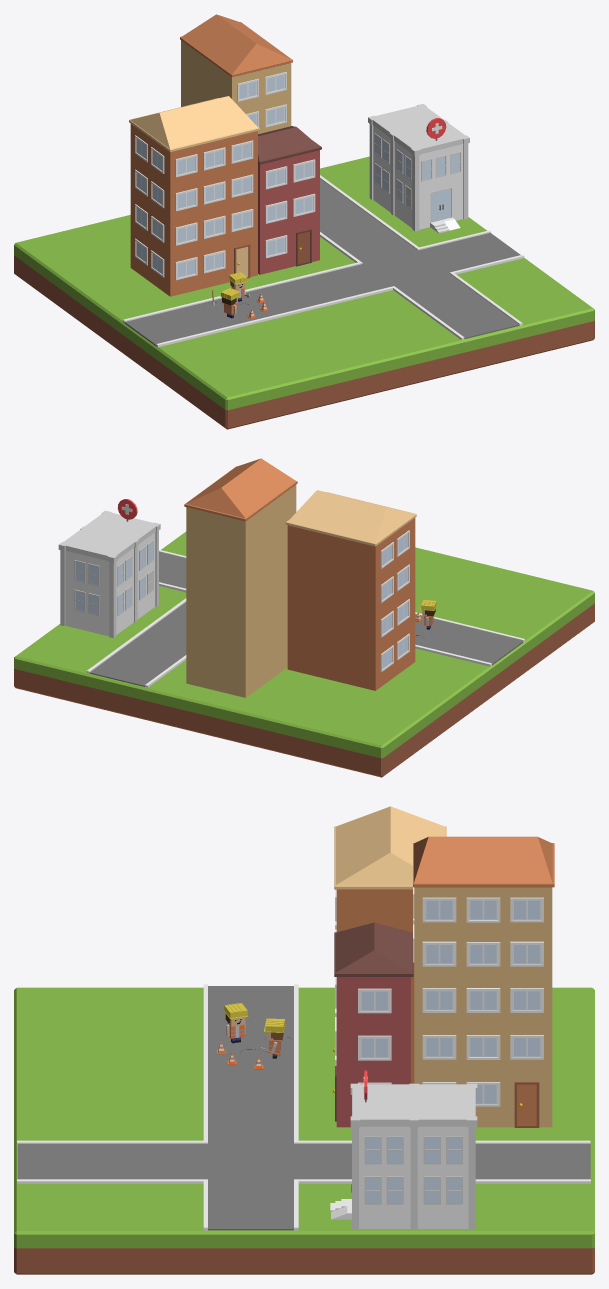
File: ground5.glb
The picture shows the model from 3 angles, top to bottom: view 1: azimuth 30°, elevation 25°; view 2: azimuth 150°, elevation 25°; view 3: azimuth 270°, elevation 25°; orthographic projection. The views are drawn at different scales.
Visible parts, largest first — view 1: Cube, Haus, Straße, Arzt, Bauarbeiter; view 2: Cube, Haus, Arzt, Straße; view 3: Cube, Haus, Straße, Arzt, Bauarbeiter.
Part boxes in pixels (bbox=[...]): Cube: bbox=[14, 156, 594, 429]; Haus: bbox=[129, 14, 321, 296]; Straße: bbox=[123, 175, 524, 347]; Arzt: bbox=[368, 104, 469, 233]; Bauarbeiter: bbox=[208, 272, 268, 318]; Cube: bbox=[14, 531, 594, 777]; Haus: bbox=[184, 458, 416, 697]; Arzt: bbox=[58, 499, 160, 638]; Straße: bbox=[86, 549, 524, 687]; Cube: bbox=[14, 987, 594, 1274]; Haus: bbox=[333, 806, 554, 1127]; Straße: bbox=[17, 984, 590, 1230]; Arzt: bbox=[330, 1070, 477, 1229]; Bauarbeiter: bbox=[217, 1003, 289, 1069].
Bounding box in the file's own units: 2 × 1.2 × 2.
